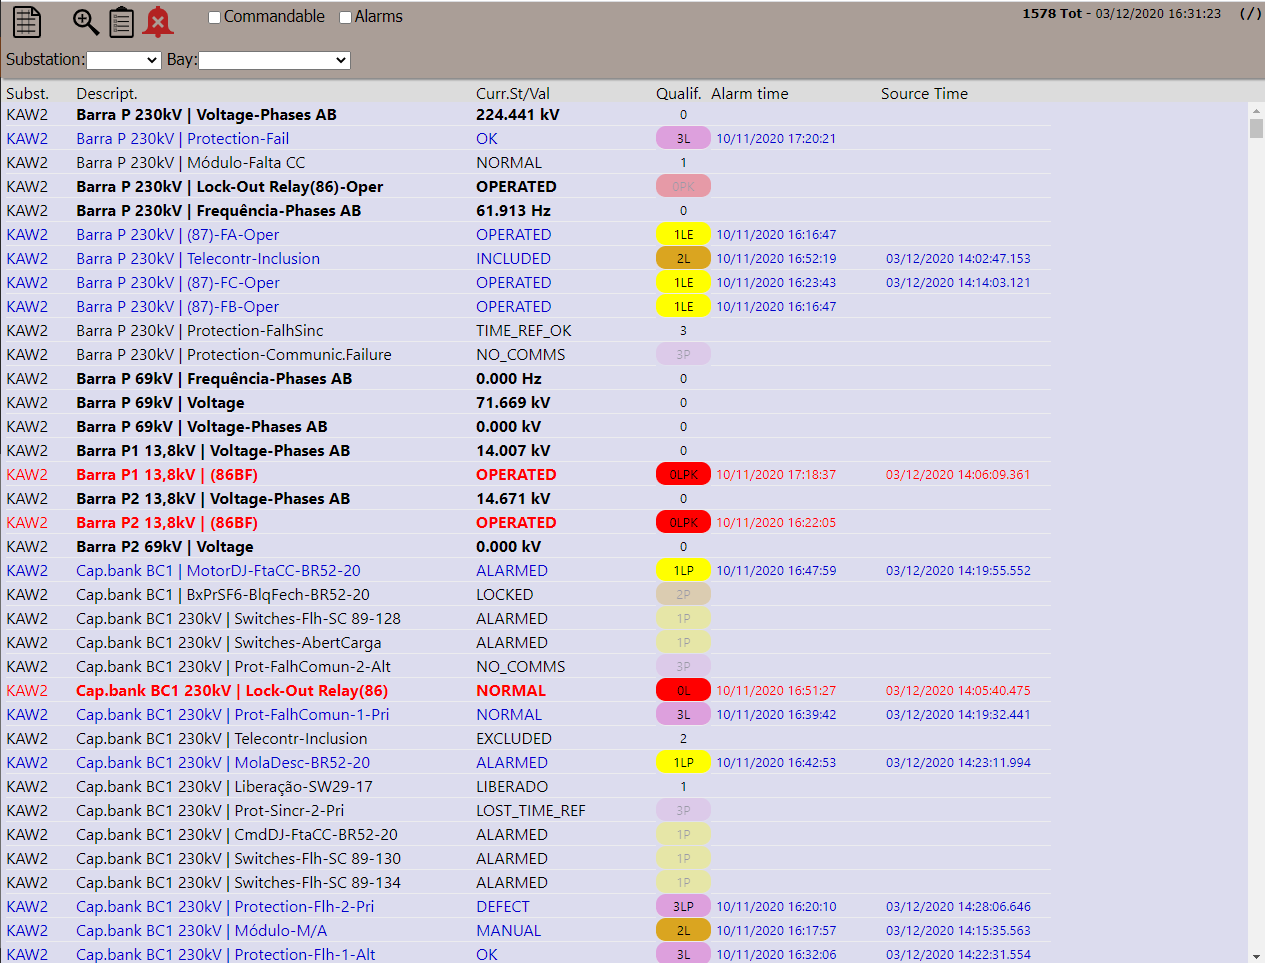

This screenshot's page, from the dashboard's own definition file:
{"tool":"powerbi","page":{"name":"Página 2","canvas":[1280,720],"ordinal":1},"visuals":[{"type":"tableEx","fields":{"Values":["public realtime_data.tag","public realtime_data.json_data.value","public realtime_data.json_data.valueString","public realtime_data.json_data.unit","public realtime_data.json_data.invalid","public realtime_data.json_data.type","public realtime_data.json_data.group2","public realtime_data.json_data.group1","public realtime_data.json_data.description","public realtime_data.json_data.alarmed"]},"box":[10.3,0,1249,696],"z":0}]}

Visuals, with their boxes on the page's 1280x720 design canvas (x1, y1, x2, y2). These are canvas units, not pixel positions in the 1265x963 screenshot, which may show the page scaled, cropped or inside an application window:
tableEx - public realtime_data.tag x public realtime_data.json_data.value: locate(10, 0, 1259, 696)
